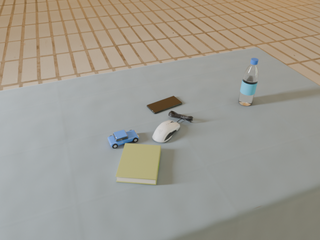book: (116, 143, 161, 185)
bottle: (238, 58, 259, 106)
mouse: (153, 120, 180, 143)
phone: (147, 96, 182, 114)
toy_car: (108, 130, 139, 148)
